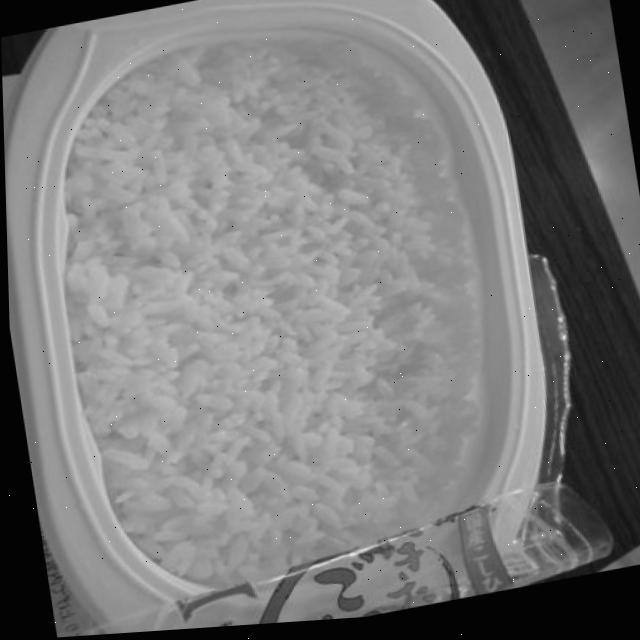米饭主食: (234, 0, 633, 628)
